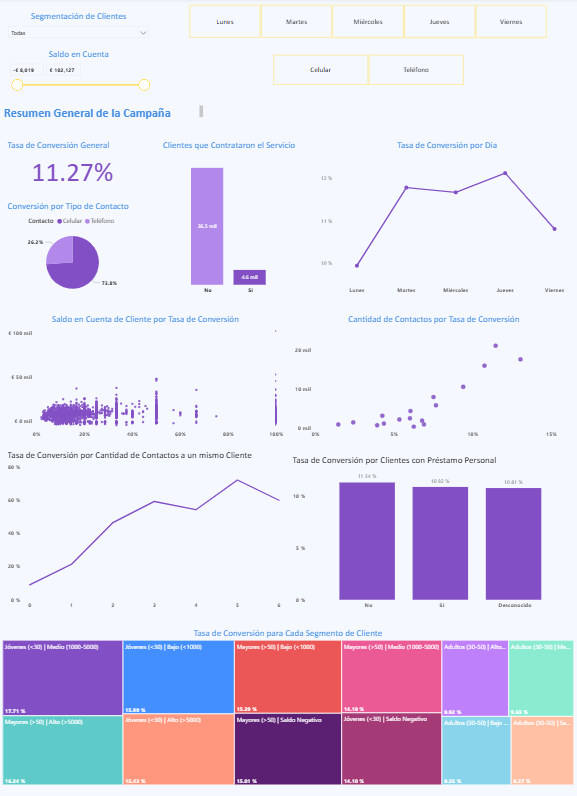

This screenshot's page, from the dashboard's own definition file:
{"tool":"powerbi","page":{"name":"Dashboard","canvas":[1270,1770],"ordinal":0},"visuals":[{"type":"pieChart","title":"Conversión por Tipo de Contacto","fields":{"Category":["campaña.Tipo de Contacto"],"Y":["Medidas.Tasa de Conversión"]},"box":[11.2,433.8,303.8,231.2],"z":0},{"type":"scatterChart","title":"Cantidad de Contactos por Tasa de Conversión","fields":{"Y":["Sum(campaña.cantidad_contactos)"],"X":["Medidas.Tasa de Conversión"],"Category":["campaña.cantidad_contactos"]},"box":[636.2,681.2,633.8,297.5],"z":1000},{"type":"treemap","title":"Tasa de Conversión para Cada Segmento de Cliente","fields":{"Group":["cliente.SegmentoCliente"],"Values":["Medidas.%Tasa de Conversión"]},"box":[0,1367.5,1270,357.5],"z":2000},{"type":"card","title":"Tasa de Conversión General","fields":{"Values":["Medidas.Tasa de Conversión por Contacto"]},"box":[10,301.2,303.8,121.2],"z":3000},{"type":"scatterChart","title":"Saldo en Cuenta de Cliente por Tasa de Conversión","fields":{"Category":["cliente.saldo"],"X":["Medidas.Tasa de Conversión"],"Y":["Sum(cliente.saldo)"]},"box":[11.2,681.2,623.8,297.5],"z":4000},{"type":"columnChart","title":"Clientes que Contrataron el Servicio","fields":{"Category":["suscripcion.Contratado_Si_NO"],"Y":["Medidas.Cantidad clientes"]},"box":[328.8,301.2,355,363.8],"z":5000},{"type":"lineChart","title":"Tasa de Conversión por Dia","fields":{"Category":["campaña.Dia_Espanol","campaña.Mes_Espanol"],"Y":["Medidas.%Tasa de Conversión"]},"box":[693.8,301.2,576.2,363.8],"z":6000},{"type":"slicer","fields":{"Values":["campaña.Dia_Espanol"]},"box":[388.8,6.2,841.2,95],"z":7000},{"type":"slicer","fields":{"Values":["campaña.Tipo de Contacto"]},"box":[571.2,113.8,476.2,88.8],"z":8000},{"type":"slicer","title":"Saldo en Cuenta","fields":{"Values":["cliente.saldo"]},"box":[8.8,101.2,337.5,112.5],"z":9000},{"type":"slicer","title":"Segmentación de Clientes","fields":{"Values":["cliente.SegmentoCliente"]},"box":[8.6,18.6,337.1,82.9],"z":10000},{"type":"textbox","box":[9,233,446,39],"z":11000},{"type":"lineChart","title":"Tasa de Conversión por Cantidad de Contactos a un mismo Cliente","fields":{"Category":["campaña.cantidad_contactos_previos"],"Y":["Medidas.%Tasa de Conversión"]},"box":[11.2,991.2,623.8,363.8],"z":12000},{"type":"columnChart","title":"Tasa de Conversión por Clientes con Préstamo Personal","fields":{"Y":["Medidas.%Tasa de Conversión"],"Category":["cliente.Préstamos Personal"]},"box":[635,991.2,635,363.8],"z":13000}]}

Visuals, with their boxes in screenshot pixels (x1, y1, x2, y2), scaled from the page's 1270x1770 canvas onto the 577x796 screenshot:
"Conversión por Tipo de Contacto" pieChart: detection(5, 195, 143, 299)
"Cantidad de Contactos por Tasa de Conversión" scatterChart: detection(289, 306, 576, 440)
"Tasa de Conversión para Cada Segmento de Cliente" treemap: detection(0, 615, 576, 776)
"Tasa de Conversión General" card: detection(5, 135, 143, 190)
"Saldo en Cuenta de Cliente por Tasa de Conversión" scatterChart: detection(5, 306, 288, 440)
"Clientes que Contrataron el Servicio" columnChart: detection(149, 135, 311, 299)
"Tasa de Conversión por Dia" lineChart: detection(315, 135, 576, 299)
slicer - campaña.Dia_Espanol: detection(177, 3, 559, 46)
slicer - campaña.Tipo de Contacto: detection(260, 51, 476, 91)
"Saldo en Cuenta" slicer: detection(4, 46, 157, 96)
"Segmentación de Clientes" slicer: detection(4, 8, 157, 46)
textbox: detection(4, 105, 207, 122)
"Tasa de Conversión por Cantidad de Contactos a un mismo Cliente" lineChart: detection(5, 446, 288, 609)
"Tasa de Conversión por Clientes con Préstamo Personal" columnChart: detection(288, 446, 576, 609)
